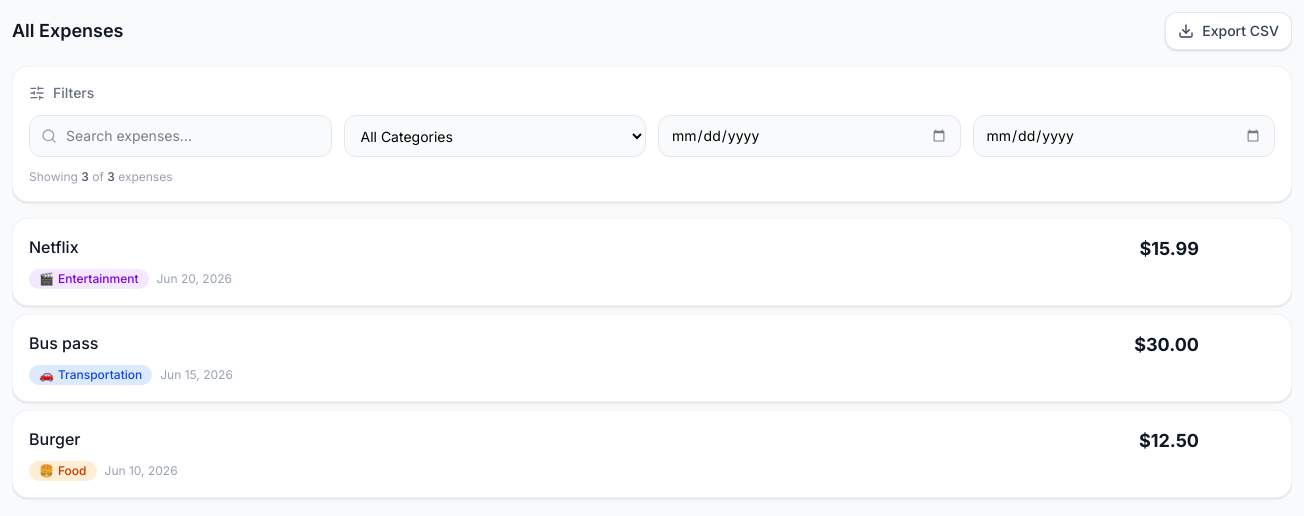
Scenario: ExpenseList — filtering › filters by category via the category select
Select "Transportation" in the dropdown. click: (495,136)
box: left=344, top=115, right=646, bottom=157
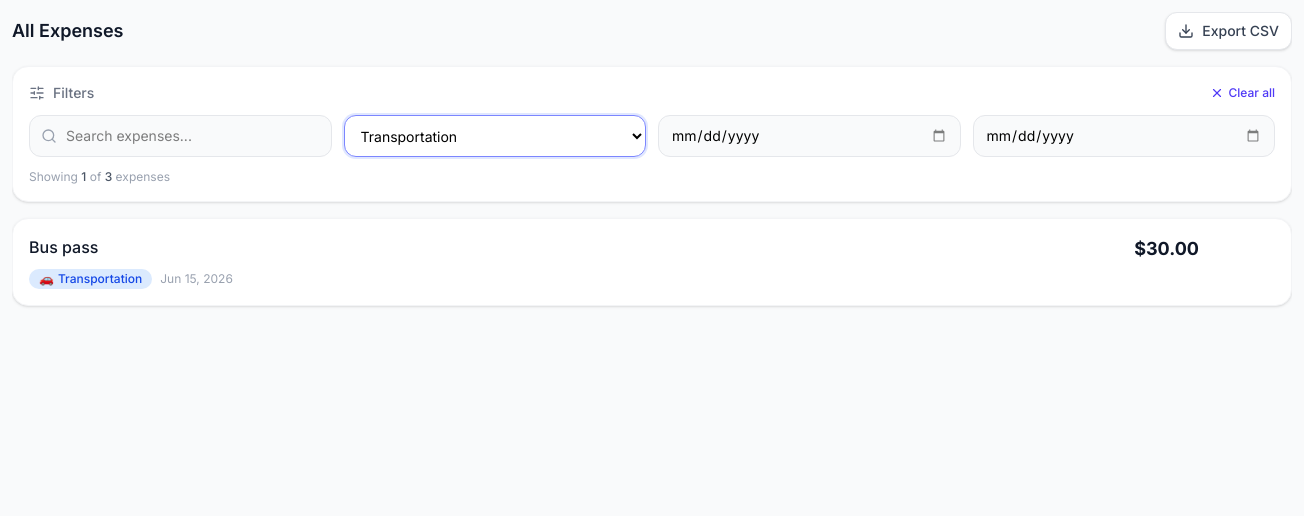
Check: the text "Bus pass" is shown, box left=29, top=235, right=98, bottom=259
Check: the text "Burger" is gone
Check: the text "Netflix" is gone
